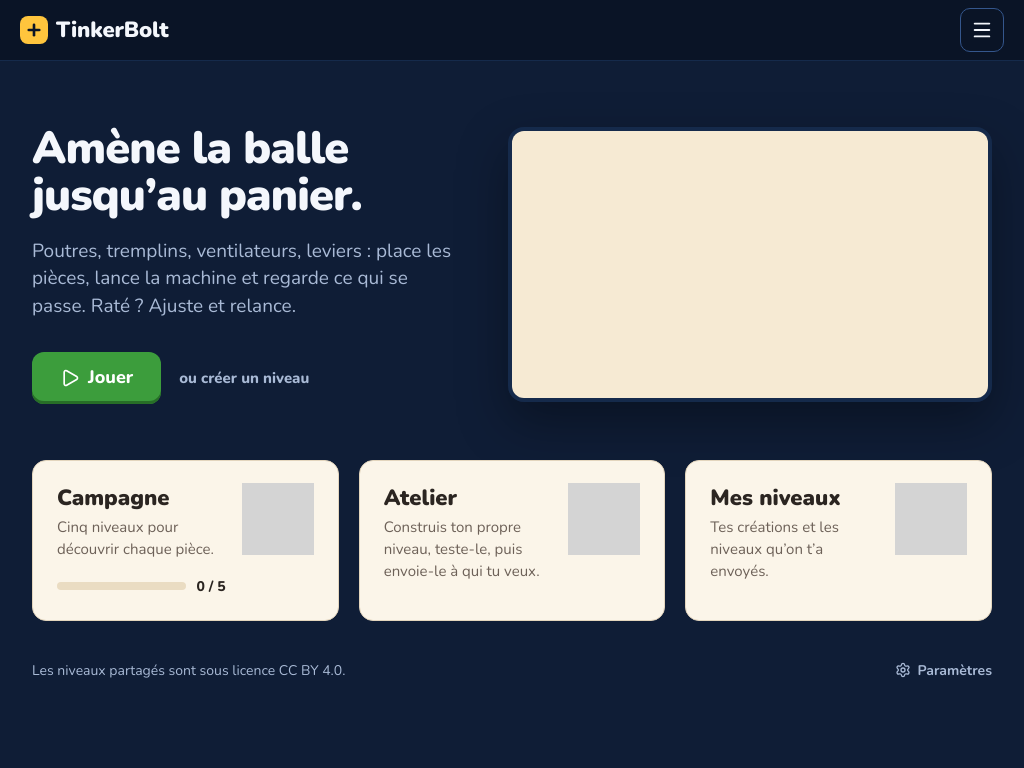
Test: page « Mes niveaux » (M9, ADR 0015 § Page « Mes niveaux ») › s’ouvre depuis le menu et l’accueil, avec deux sections vides et leurs invites
Click the button named "Ouvrir le menu" at (982, 30), box [960,8,1004,52]
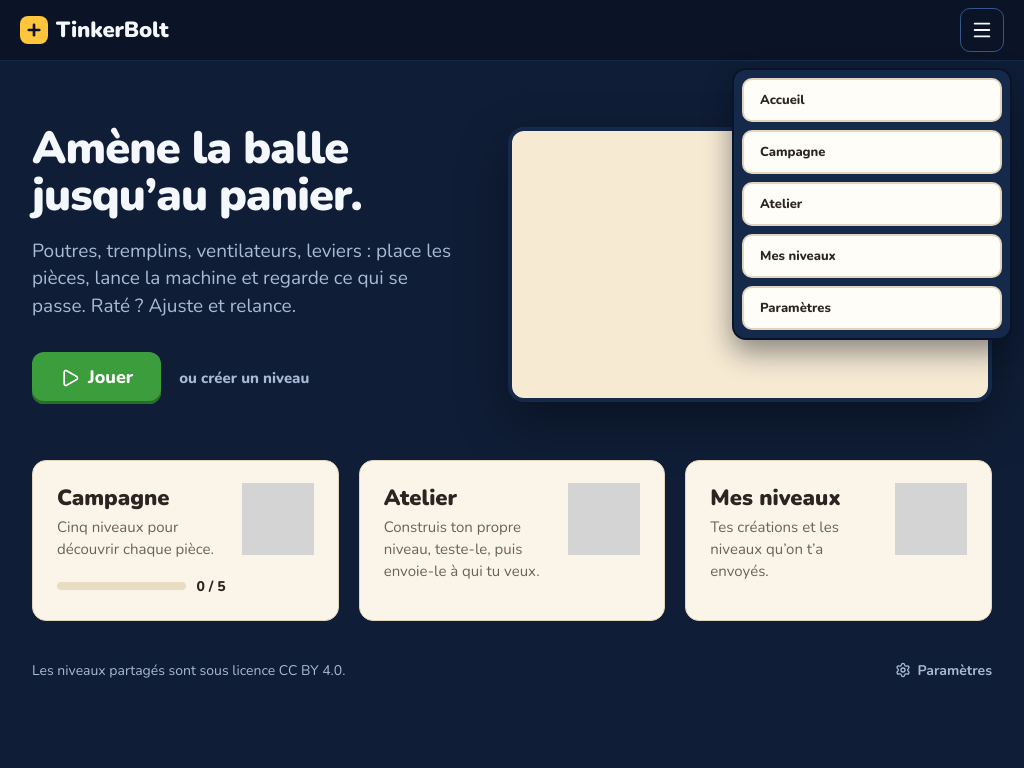
Click the button "Mes niveaux" at (798, 256), box [742,234,1002,278]
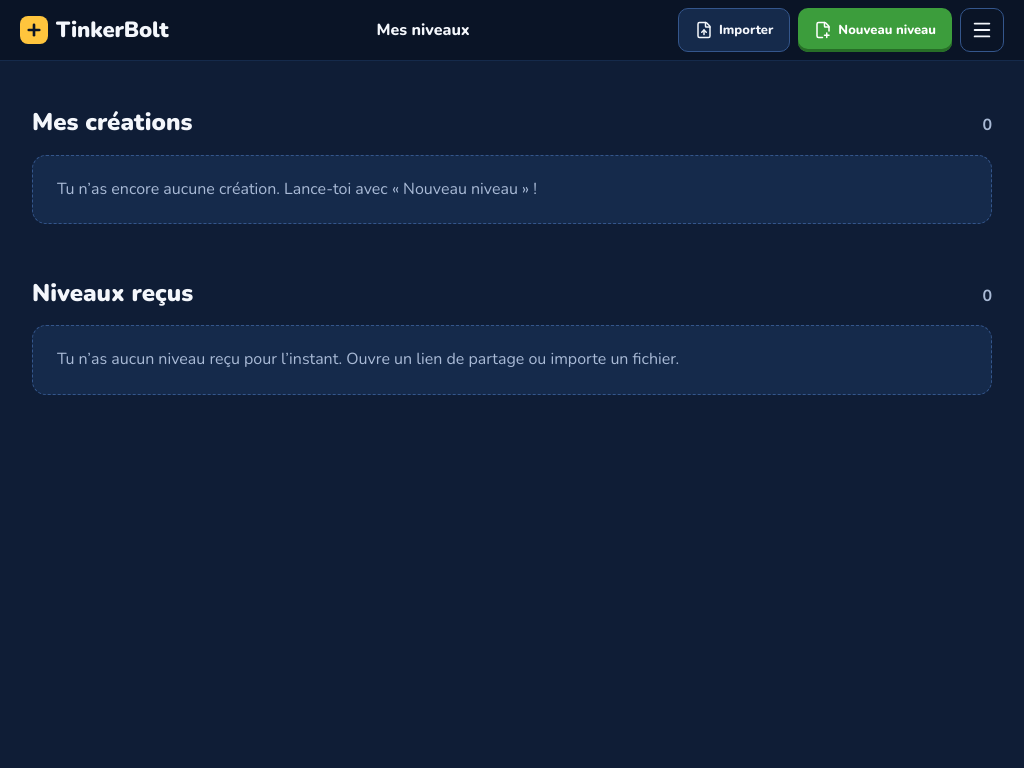
Expected: the text "0" in the row of "Mes créations" is shown, [982,114,992,136]
Result: the text "aucune création" is shown at [57,178,537,200]
Result: the text "aucun niveau reçu" is shown at [57,348,679,370]
